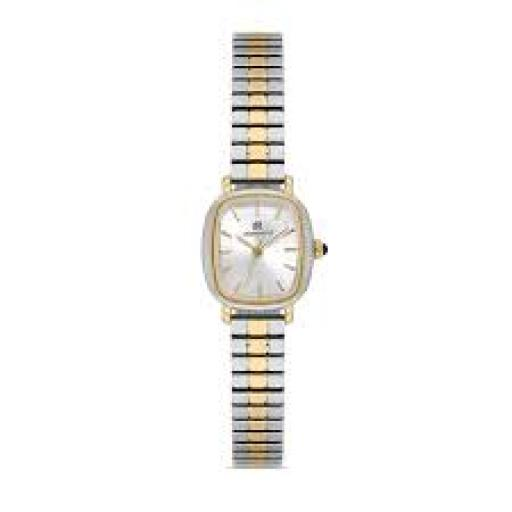KolSaati: (154, 23, 370, 497)
